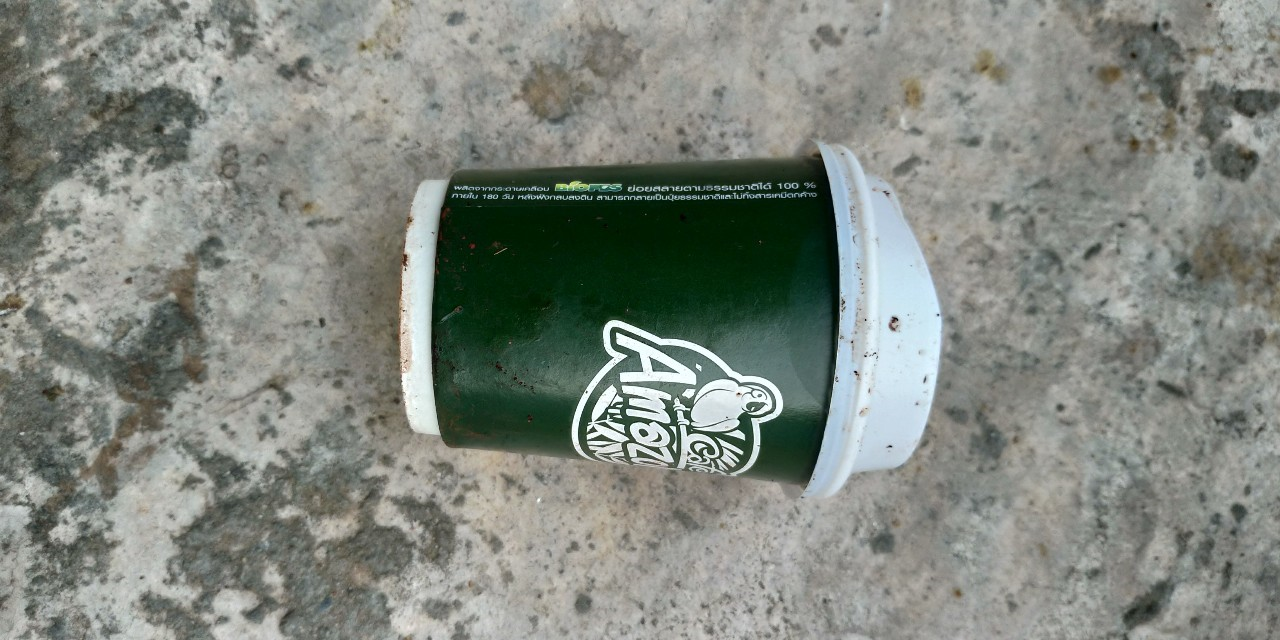PaperCup: (401, 142, 942, 498)
